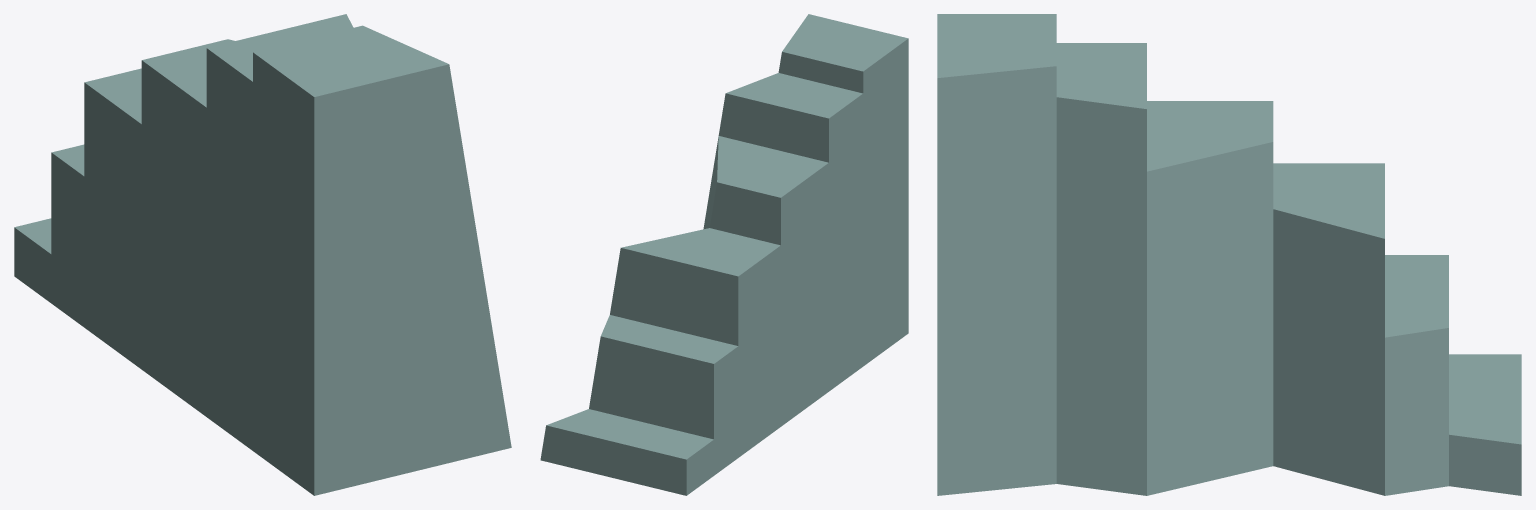
The model's file is naturePack_120.fbx.
The picture shows the model from 3 angles, left to right: view 1: azimuth 30°, elevation 25°; view 2: azimuth 150°, elevation 25°; view 3: azimuth 270°, elevation 25°; orthographic projection. The views are drawn at different scales.
Visible parts, largest first — view 1: naturePack_120; view 2: naturePack_120; view 3: naturePack_120.
Part boxes in pixels (x1=…): naturePack_120: x1=14, y1=14, x2=511, y2=495; naturePack_120: x1=540, y1=14, x2=908, y2=495; naturePack_120: x1=937, y1=14, x2=1521, y2=495.
Bounding box in the file's own units: 114 × 220 × 300.
